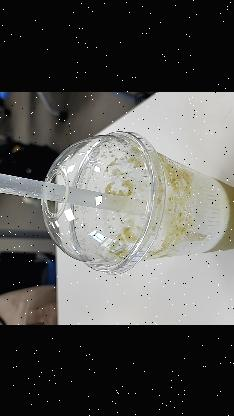Others: (35, 129, 234, 276), (40, 124, 162, 274), (0, 158, 151, 216)
